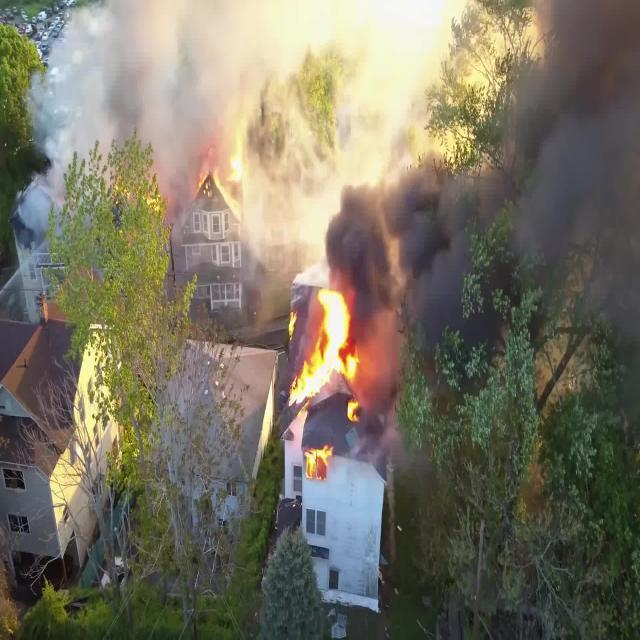Fire: (282, 281, 358, 483)
Smoke: (21, 0, 640, 464)
